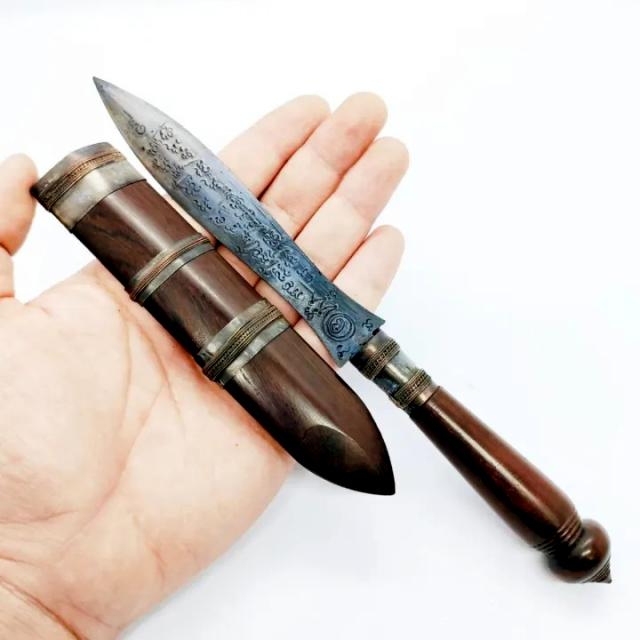short sword: (81, 66, 627, 604)
